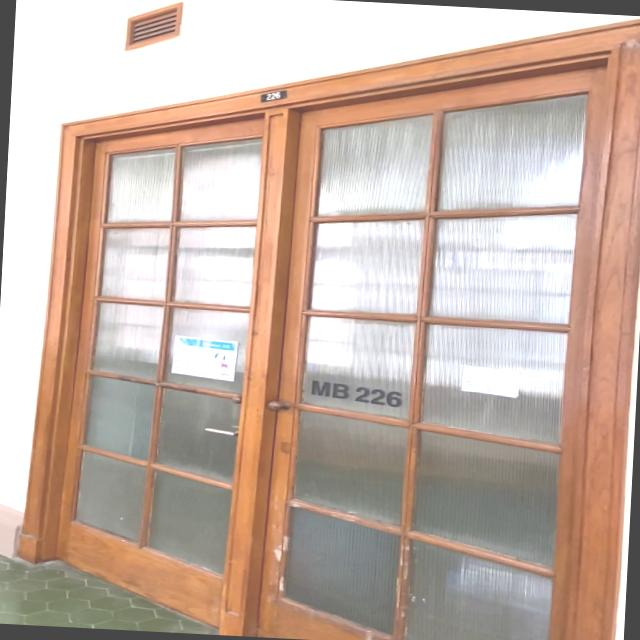room226: (258, 88, 289, 106)
room226Window: (306, 378, 410, 410)
